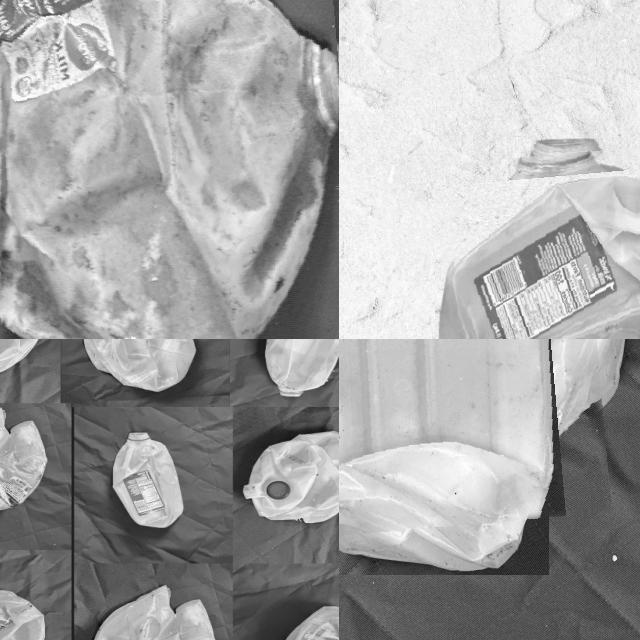milk-jug: (0, 0, 339, 339), (339, 339, 603, 537), (451, 146, 640, 339), (241, 431, 339, 525), (106, 426, 188, 529), (78, 582, 216, 640), (80, 339, 194, 392), (0, 405, 54, 514), (260, 339, 339, 397), (271, 595, 339, 640), (0, 586, 50, 640)
